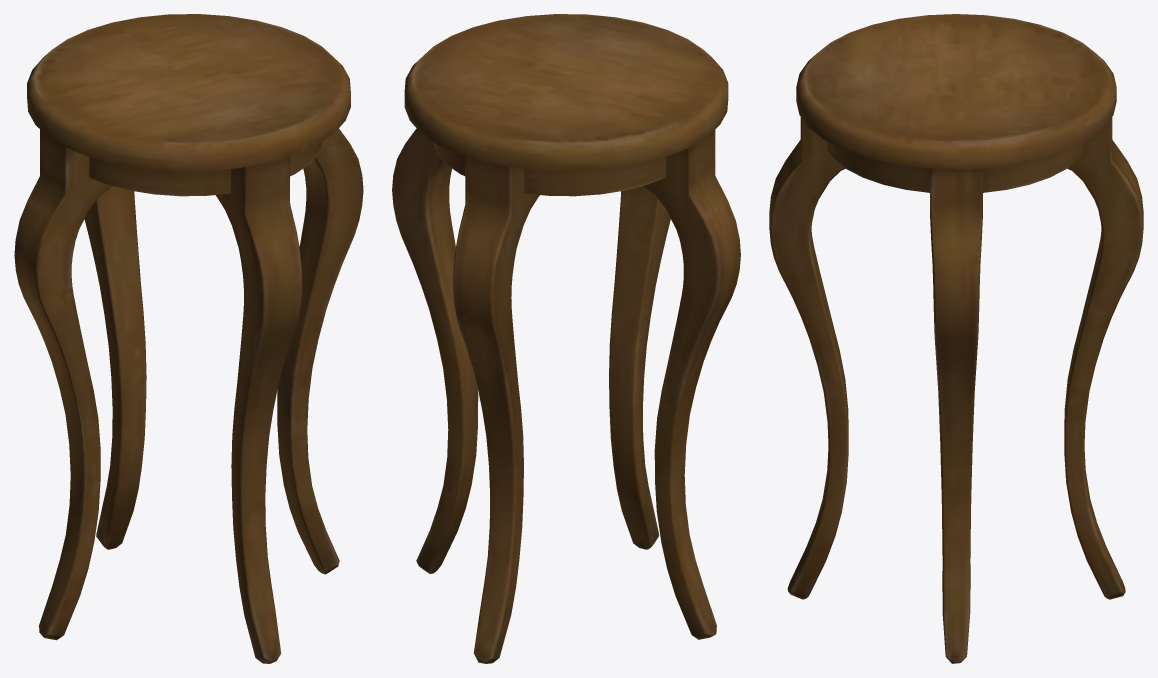
The model's file is SM_stool_ffaea9.glb.
The picture shows the model from 3 angles, left to right: view 1: azimuth 30°, elevation 25°; view 2: azimuth 150°, elevation 25°; view 3: azimuth 270°, elevation 25°; orthographic projection.
Size of the model in its own units: 0.4309 by 0.6609 by 0.4309.
1 material, 1 textured.
